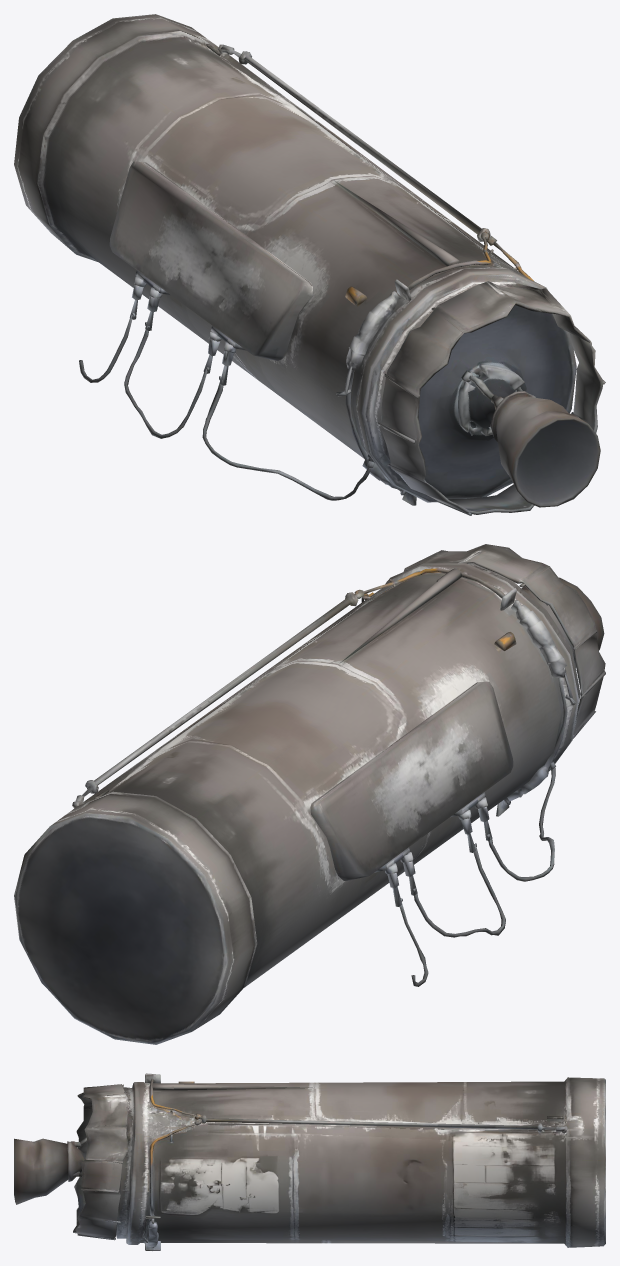
Rendered from original_glb.glb.
3 renders of one model, top to bottom at view 1: azimuth 30°, elevation 25°; view 2: azimuth 150°, elevation 25°; view 3: azimuth 270°, elevation 25°, orthographic. The views are drawn at different scales.
Visible parts, largest first — view 1: Spent Rocket Stage; view 2: Spent Rocket Stage; view 3: Spent Rocket Stage.
Boxes of the visible parts, left/top/right/bottom form: Spent Rocket Stage: left=14, top=14, right=605, bottom=515; Spent Rocket Stage: left=14, top=544, right=605, bottom=1044; Spent Rocket Stage: left=14, top=1073, right=605, bottom=1250.
Size of the model in its own units: 0.377 by 0.291 by 0.998.
1 material, 1 textured.
